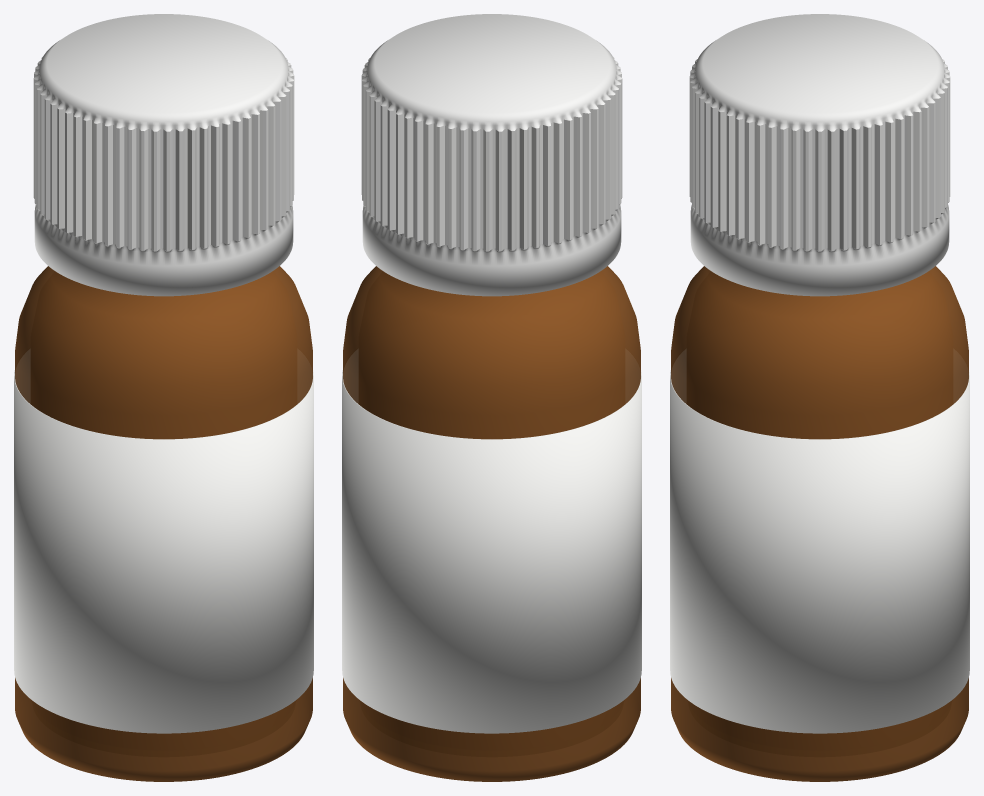
File: anim-dropper.glb
3 renders of one model, left to right at view 1: azimuth 30°, elevation 25°; view 2: azimuth 150°, elevation 25°; view 3: azimuth 270°, elevation 25°, orthographic.
Visible parts, largest first — view 1: bottle_label, bottle_cap, bottle_glass; view 2: bottle_label, bottle_cap, bottle_glass; view 3: bottle_label, bottle_cap, bottle_glass.
Part boxes in pixels (<box>): bottle_label: <box>14,370,313,733</box>; bottle_cap: <box>33,14,294,296</box>; bottle_glass: <box>15,266,312,781</box>; bottle_label: <box>342,370,641,733</box>; bottle_cap: <box>361,14,622,296</box>; bottle_glass: <box>343,266,640,781</box>; bottle_label: <box>670,370,969,733</box>; bottle_cap: <box>689,14,950,296</box>; bottle_glass: <box>671,266,968,781</box>.
Size of the model in its own units: 0.0287 by 0.07 by 0.0287.
